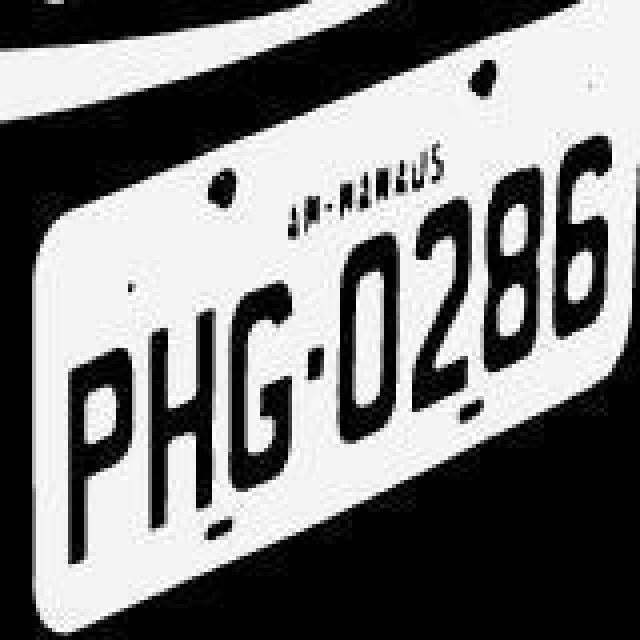2: (408, 190, 480, 418)
6: (550, 130, 618, 342)
8: (482, 164, 558, 380)
G: (228, 272, 300, 504)
H: (146, 298, 222, 534)
O: (338, 230, 406, 450)
P: (62, 338, 146, 582)
